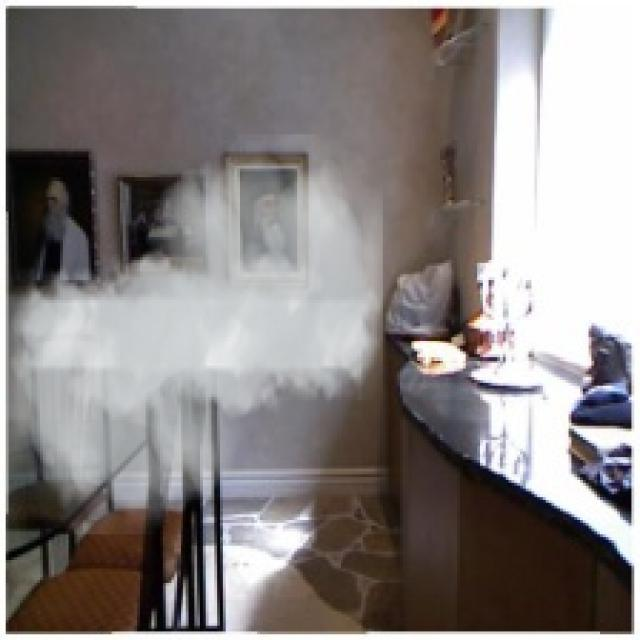smoke: (8, 135, 383, 534)
